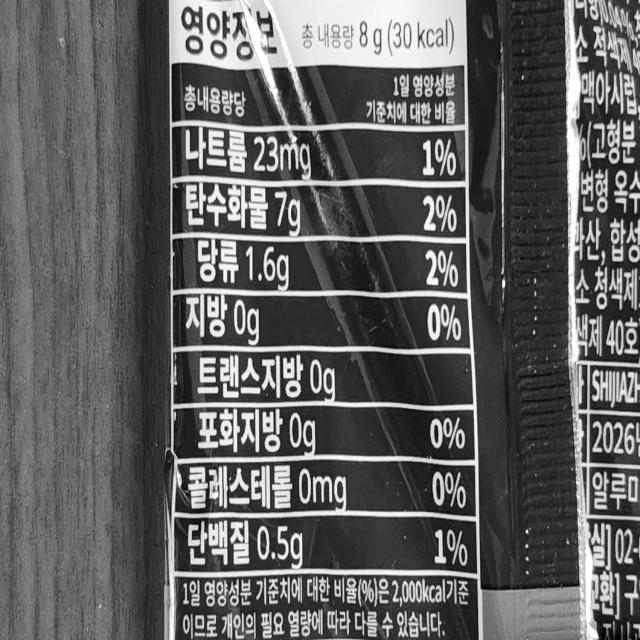Nutrition Label: (166, 0, 481, 640)
